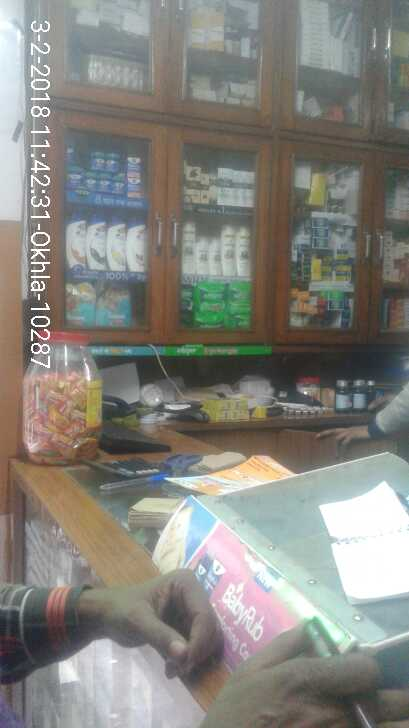vicks: (59, 147, 150, 201)
